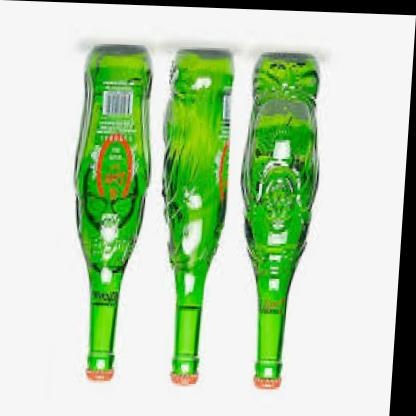trash: (242, 53, 318, 387), (75, 46, 150, 380), (163, 50, 232, 384)
